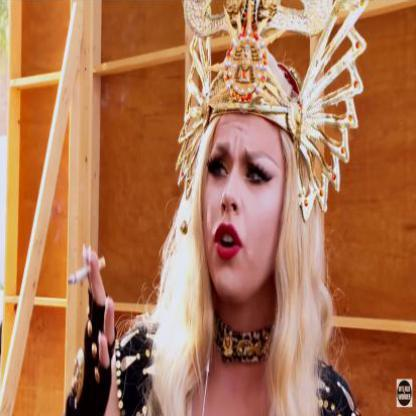cigarette: (67, 253, 107, 290)
person: (154, 93, 326, 415)
